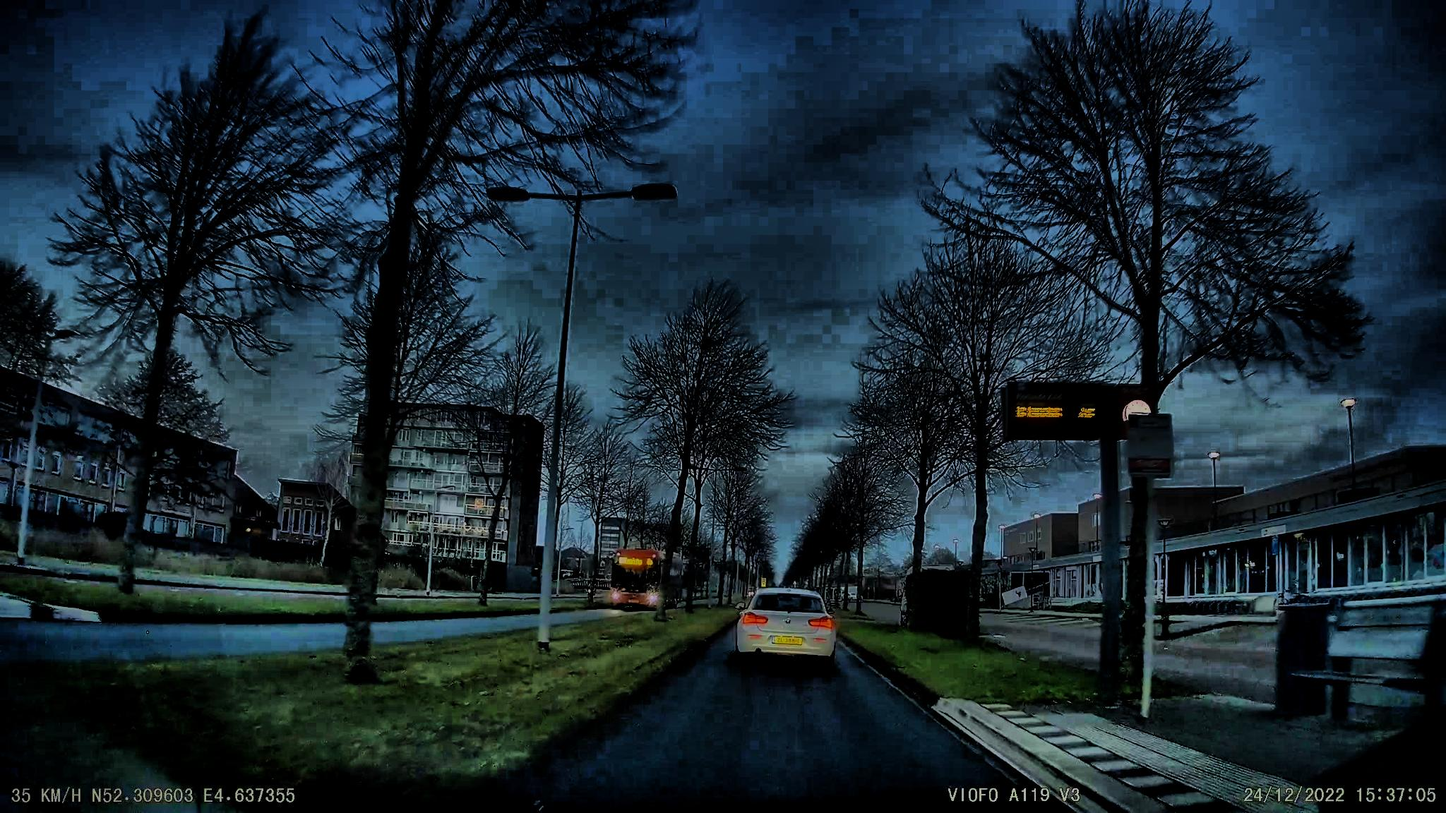Roads: (458, 635, 1081, 813)
